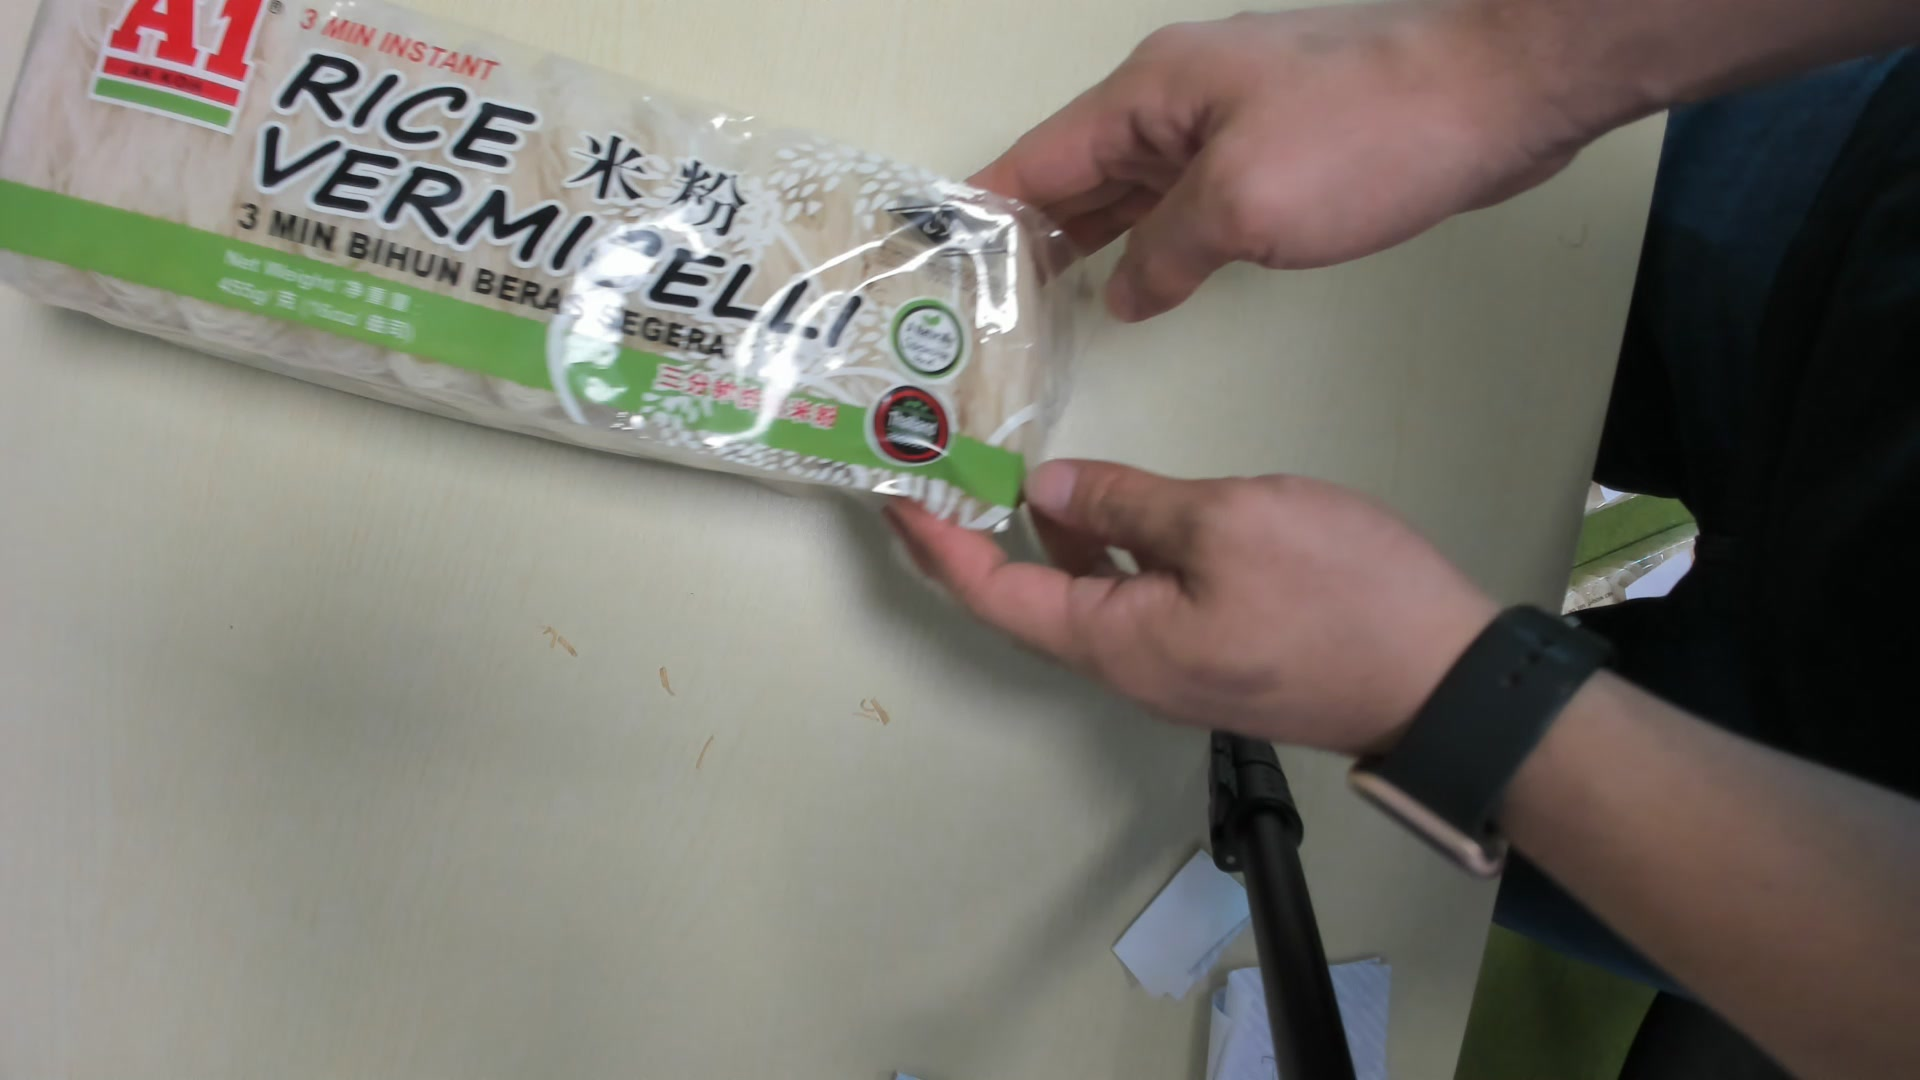BeeHoonVermicelli_400-499g_Halal_NonHealthy: (7, 5, 1035, 516)
